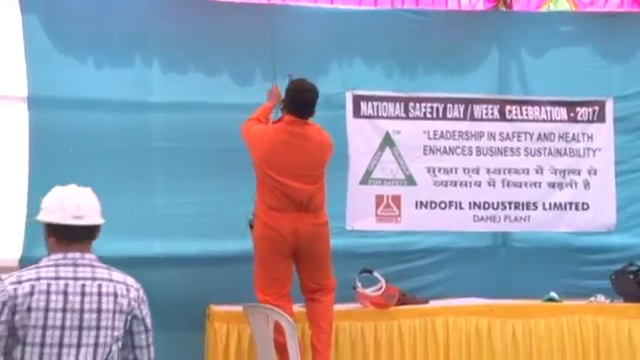helmet: (34, 182, 108, 227)
helmet_off: (283, 78, 319, 121)
helmet_on: (34, 182, 108, 261)
person: (233, 75, 338, 360), (1, 181, 148, 360)
